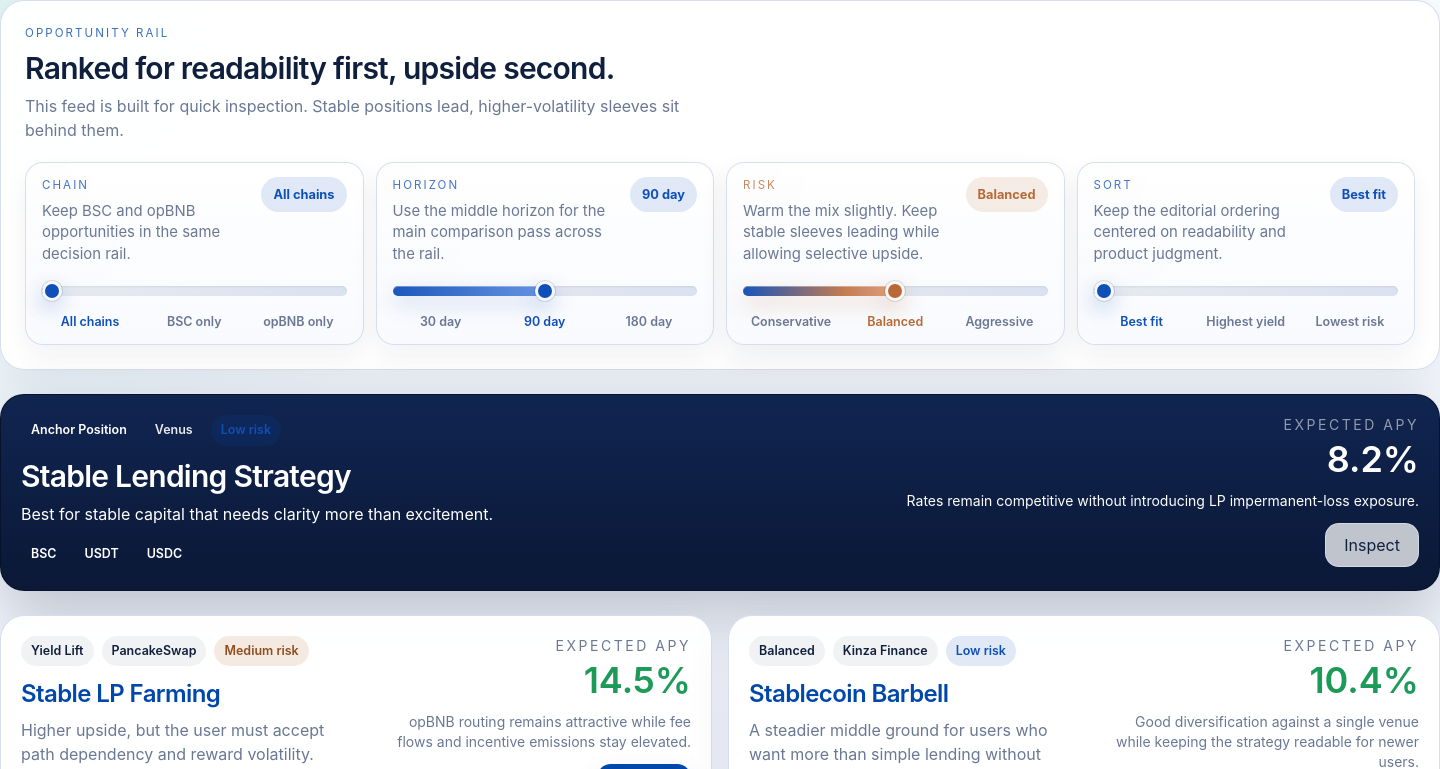
Test case: StrategyList › narrows the opportunity rail when the risk stance moves to conservative
Expected: the heading "Stable LP Farming" is shown, [21,679,220,708]
Expected: the text "Warm the mix slightly. Keep stable sleeves leading while allowing selective upside." is shown, [743,202,939,263]
Set the slider named "Risk" to "0" at (751, 291), box [743,279,1048,303]
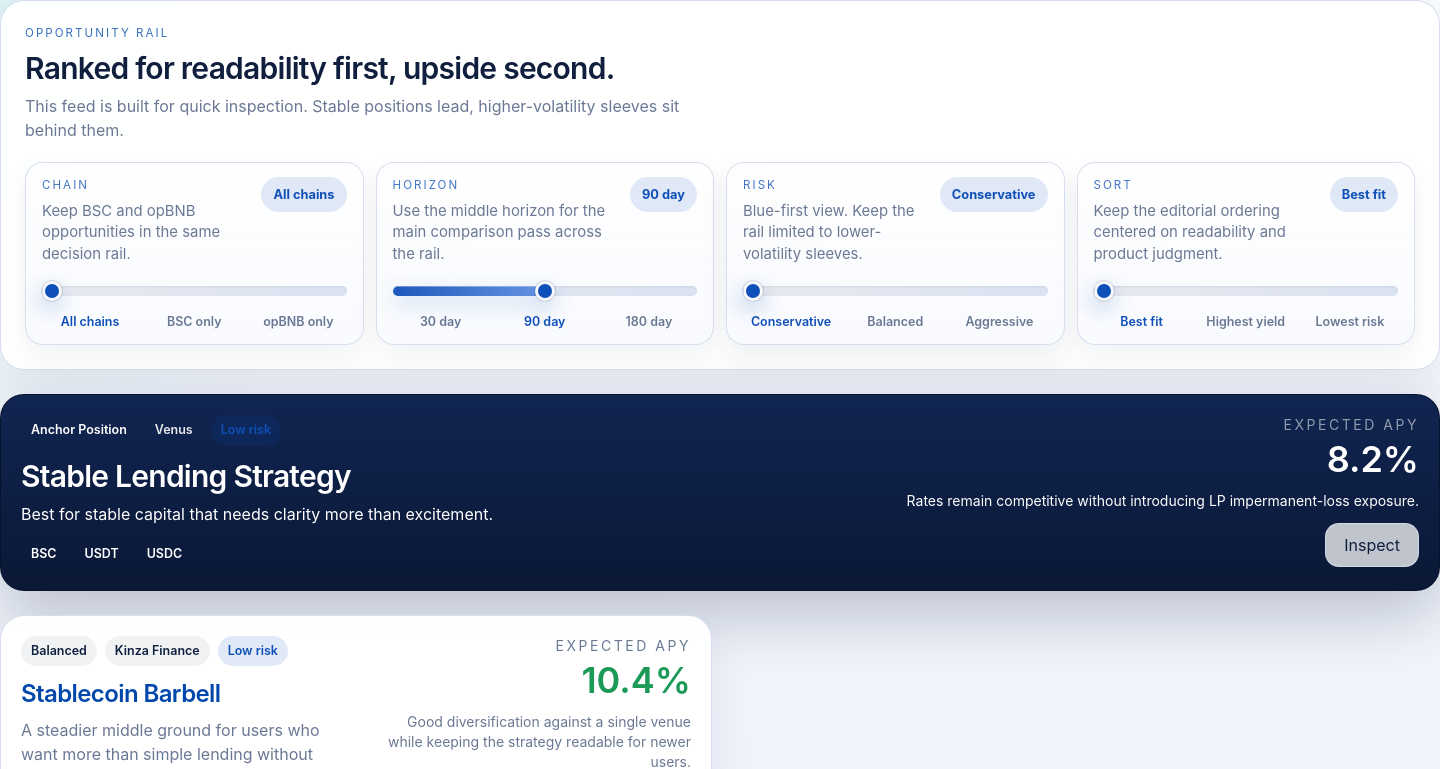
Expected: the text "Blue-first view. Keep the rail limited to lower-volatility sleeves." is shown, [743,200,926,265]
Expected: the heading "Stable LP Farming" is gone
